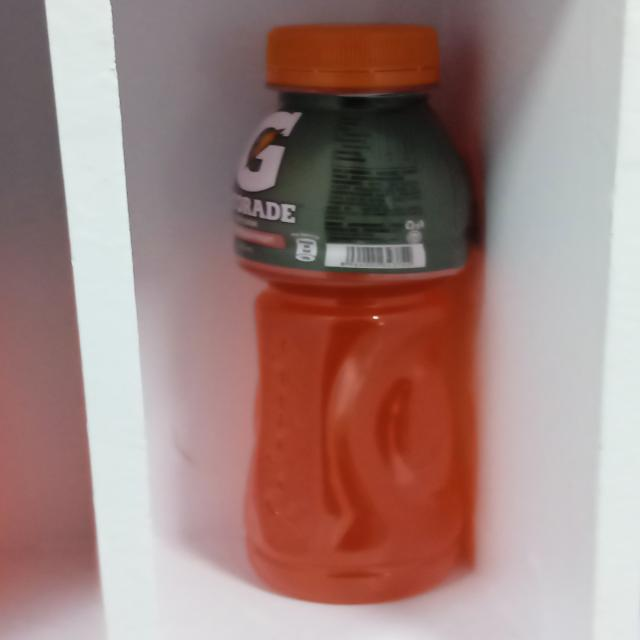Plastic: (242, 24, 480, 598)
